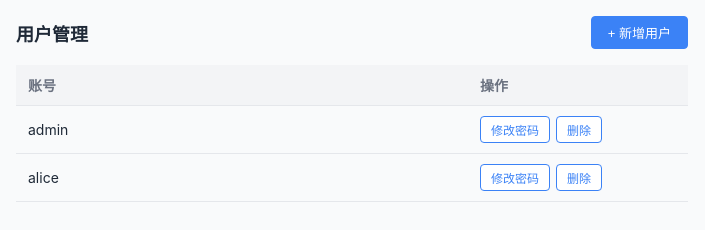
Test case: Users - 删除用户 › 删除失败(mock 抛错)→ 行内错误显示,该行不消失,不发新的 listUsers
Expected: the row with test id "user-row-alice" is shown, top-left (16, 154), bottom-right (688, 202)
Click the button with test id "delete-user-alice": point(579, 178) top-left (556, 164), bottom-right (602, 191)
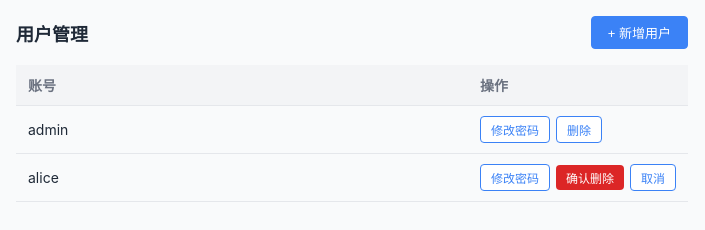
Click the button with test id "delete-confirm-alice": point(590, 178) top-left (556, 165), bottom-right (624, 190)
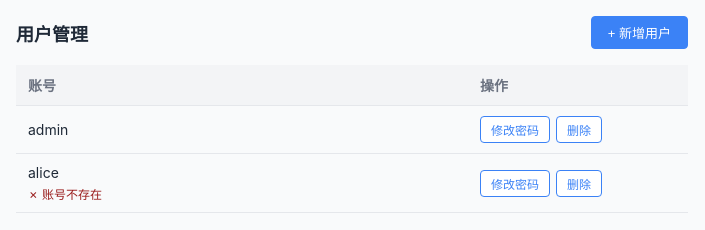
Expected: the row with test id "user-row-alice" is shown, top-left (16, 154), bottom-right (688, 212)
Expected: the text with test id "delete-error-alice" shows "账号不存在", top-left (42, 187), bottom-right (102, 202)
